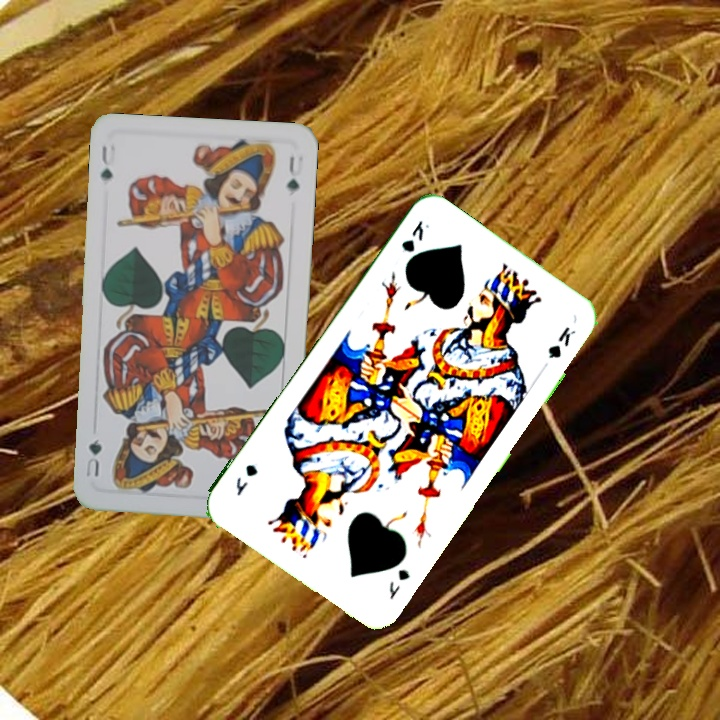GK: (397, 216, 432, 255), (384, 565, 413, 603)
GU: (96, 141, 115, 184)
